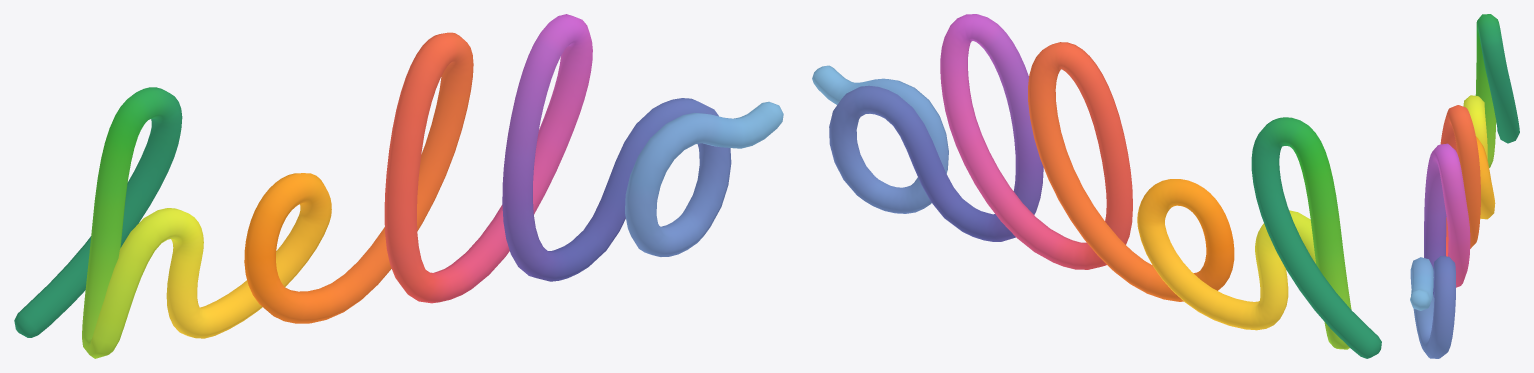
The model's file is Hello.glb.
The picture shows the model from 3 angles, left to right: view 1: azimuth 30°, elevation 25°; view 2: azimuth 150°, elevation 25°; view 3: azimuth 270°, elevation 25°; orthographic projection. The views are drawn at different scales.
Visible parts, largest first — view 1: Hello; view 2: Hello; view 3: Hello.
Part boxes in pixels (x1,y1,x2,y2): Hello: (14, 14, 783, 358); Hello: (812, 14, 1381, 358); Hello: (1410, 14, 1519, 358).
Bounding box in the file's own units: 1.66 × 0.5834 × 0.3252.
Materials: 1 (1 with a texture image).
